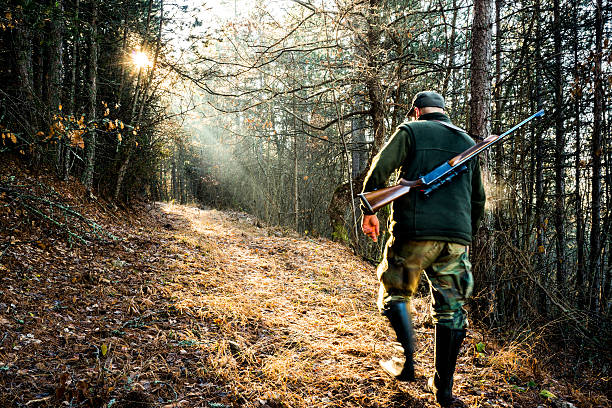rifle: (355, 103, 556, 240)
